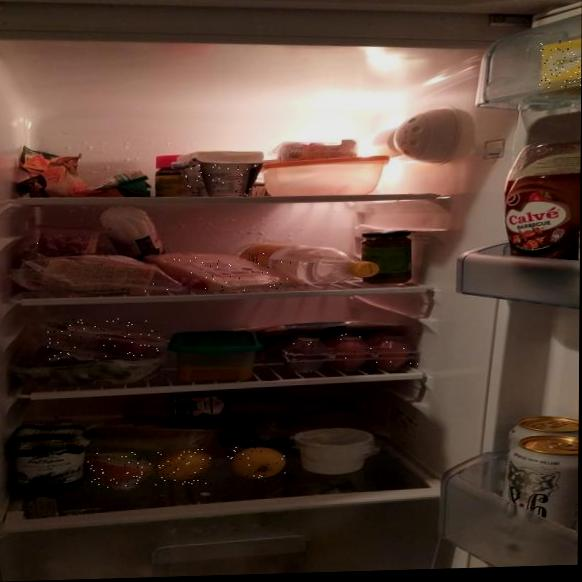bacon: (36, 218, 112, 258)
butter: (537, 40, 582, 87)
cheese: (145, 251, 293, 295), (87, 451, 152, 488)
eggs: (286, 330, 422, 379)
ham: (249, 320, 416, 333)
lemon: (227, 443, 291, 479), (154, 449, 215, 486)
tomatoes: (42, 316, 161, 362)
yoghurt: (186, 162, 259, 199)
